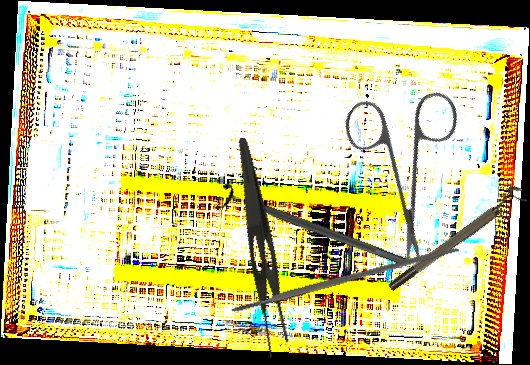Dressing Forceps: (213, 136, 302, 360)
Fixation Ring: (214, 180, 413, 278), (382, 182, 529, 294)
Iris Scissors: (298, 54, 512, 268)
Scalpel Handle: (229, 243, 461, 315)
